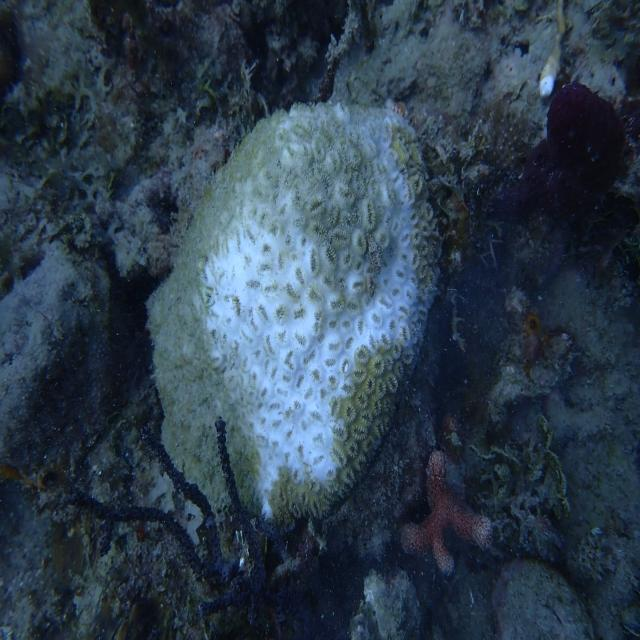Coral: (142, 100, 440, 563), (401, 449, 493, 576)
